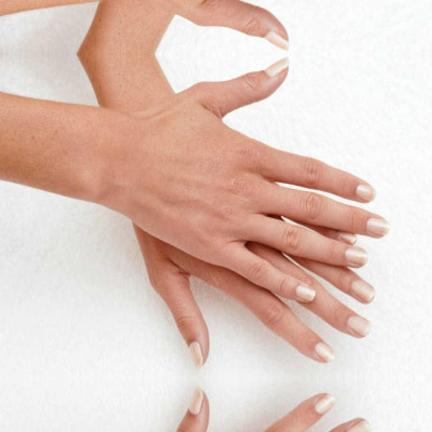Nail: (351, 280, 375, 303), (264, 57, 291, 77), (264, 31, 291, 51), (348, 316, 372, 337), (188, 342, 203, 372), (188, 384, 203, 414), (315, 342, 336, 363), (315, 393, 336, 414), (367, 218, 390, 236), (345, 248, 368, 266), (295, 285, 316, 302), (356, 184, 376, 201), (348, 419, 372, 432), (340, 232, 357, 244)
